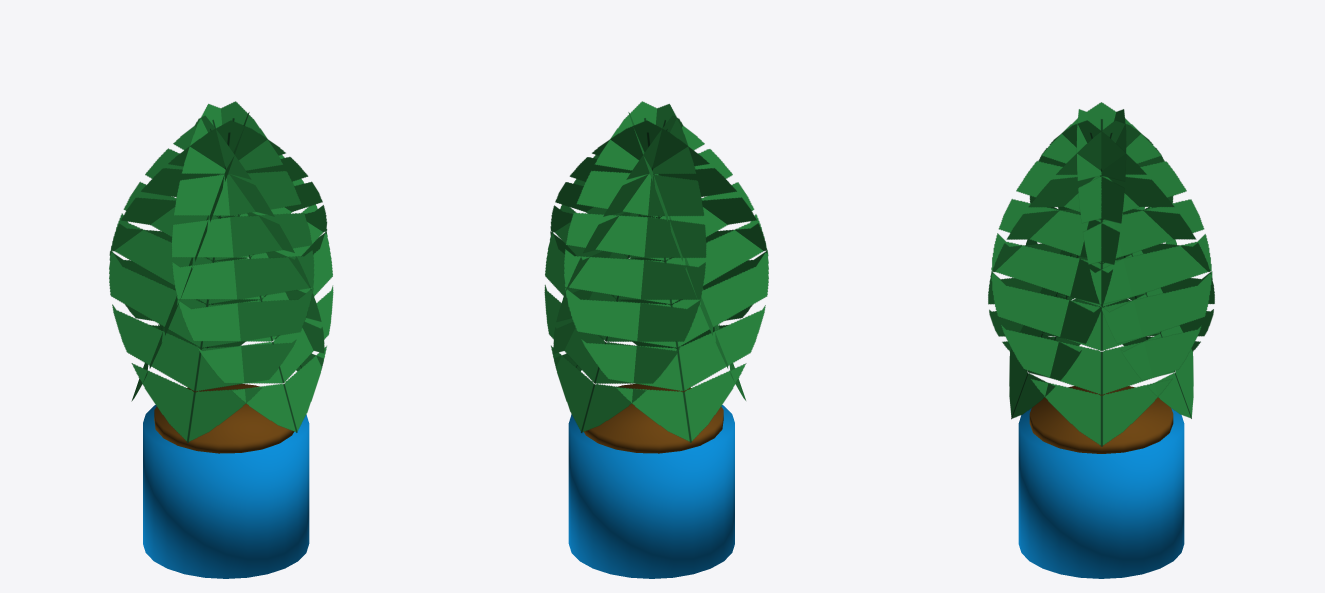
File: plant_bigleaf.glb
3 renders of one model, left to right at view 1: azimuth 30°, elevation 25°; view 2: azimuth 150°, elevation 25°; view 3: azimuth 270°, elevation 25°, orthographic.
Visible parts, largest first — view 1: Plane.003, Cylinder, Plane.004, Plane.001, Cylinder.001, Plane, Plane.002; view 2: Plane.002, Cylinder, Plane.001, Plane.004, Cylinder.001, Plane, Plane.003; view 3: Plane, Cylinder, Plane.004, Plane.001, Plane.003, Plane.002, Cylinder.001.
Boxes of the visible parts, x1,y1,x2,y2 form: Plane.003: [109, 101, 313, 442]; Cylinder: [143, 405, 309, 578]; Plane.004: [171, 104, 333, 432]; Plane.001: [109, 120, 327, 348]; Cylinder.001: [154, 384, 294, 453]; Plane: [195, 115, 324, 371]; Plane.002: [131, 112, 249, 401]; Plane.002: [564, 101, 768, 442]; Cylinder: [568, 405, 734, 578]; Plane.001: [544, 104, 706, 432]; Plane.004: [550, 120, 767, 348]; Cylinder.001: [584, 383, 723, 453]; Plane: [553, 115, 682, 371]; Plane.003: [628, 112, 745, 400]; Plane: [991, 102, 1212, 446]; Cylinder: [1018, 408, 1184, 578]; Plane.004: [1009, 109, 1126, 419]; Plane.001: [1076, 109, 1193, 418]; Plane.003: [988, 120, 1173, 351]; Plane.002: [1029, 120, 1214, 351]; Cylinder.001: [1029, 386, 1173, 453].
Size of the model in its own units: 0.3603 by 0.4497 by 0.3789.
3 materials, 1 textured.
